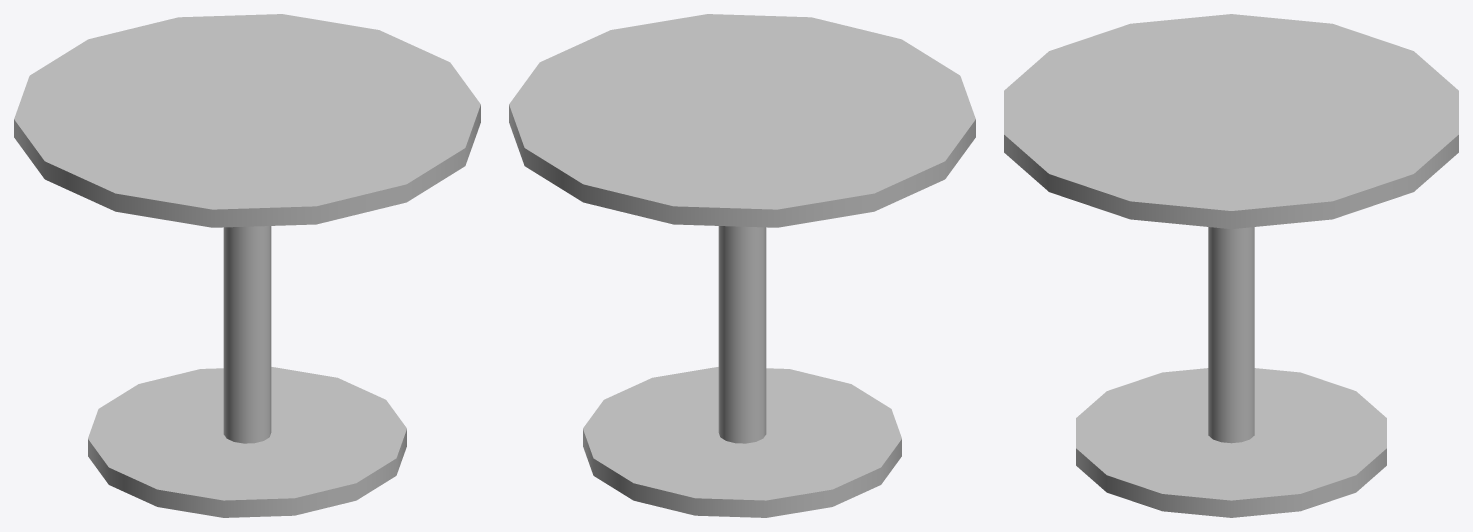
File: fbx_club_table.fbx
3 views of the same model, side by side, from view 1: azimuth 30°, elevation 25°; view 2: azimuth 150°, elevation 25°; view 3: azimuth 270°, elevation 25° (orthographic).
Parts seen in each view (by area): view 1: fbx_club_table; view 2: fbx_club_table; view 3: fbx_club_table.
Boxes of the visible parts, x1=… form: fbx_club_table: x1=14, y1=14, x2=480, y2=517; fbx_club_table: x1=509, y1=14, x2=975, y2=517; fbx_club_table: x1=1004, y1=14, x2=1458, y2=517.
Bounding box in the file's own units: 1.04 × 0.8331 × 1.02.
Materials: 1 (1 with a texture image).
